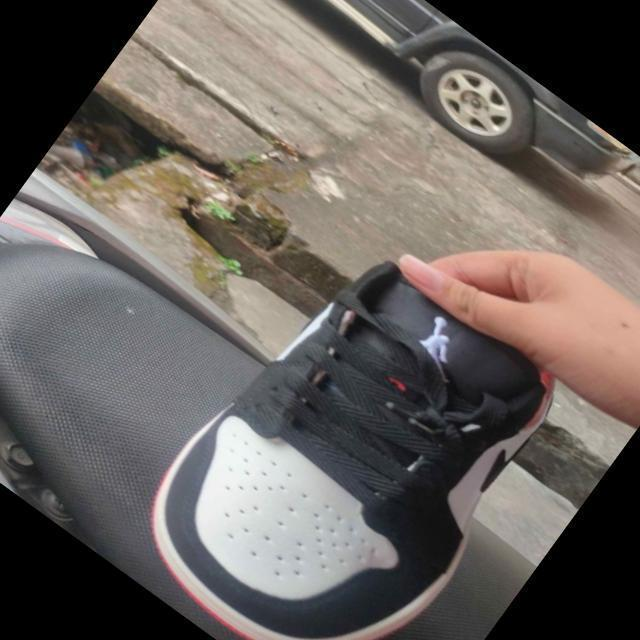nike fake jordan 1: (106, 219, 575, 640)
